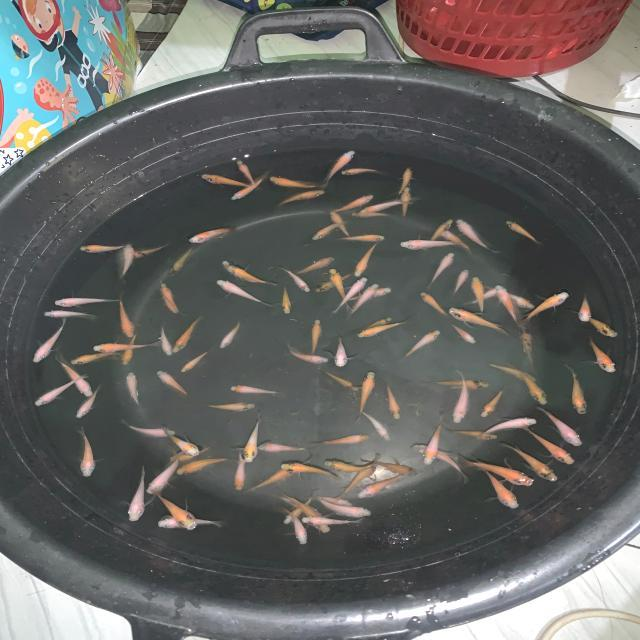nila: (474, 456, 522, 511), (458, 453, 532, 488), (503, 439, 560, 484), (411, 440, 469, 483), (151, 488, 201, 532), (356, 471, 426, 502), (280, 492, 330, 534), (33, 373, 89, 408), (448, 306, 510, 336), (528, 428, 576, 466), (538, 407, 583, 447), (51, 357, 96, 396), (216, 278, 272, 308), (521, 290, 570, 324), (31, 321, 68, 366), (246, 466, 302, 494), (328, 276, 368, 315), (567, 309, 620, 338), (146, 448, 177, 497), (513, 364, 549, 406), (484, 282, 537, 310), (456, 218, 496, 254), (320, 149, 358, 186), (356, 407, 394, 444), (340, 464, 382, 497), (356, 316, 416, 339), (126, 466, 149, 524), (476, 416, 536, 438), (280, 492, 318, 526), (318, 496, 374, 519), (172, 314, 204, 354), (278, 488, 320, 518), (279, 462, 345, 481), (401, 330, 442, 360), (365, 455, 418, 478), (586, 336, 618, 374), (74, 428, 98, 478), (484, 361, 538, 383), (176, 456, 230, 478), (230, 170, 266, 202), (346, 282, 378, 318), (186, 223, 236, 246), (566, 364, 589, 414), (242, 412, 264, 464), (156, 370, 194, 400), (328, 266, 351, 314), (494, 282, 519, 326), (422, 421, 446, 466), (312, 271, 356, 295), (155, 516, 230, 530), (167, 244, 196, 280), (122, 371, 147, 412), (275, 189, 326, 209), (74, 383, 102, 419), (68, 348, 124, 366), (228, 265, 278, 285), (292, 253, 335, 276), (504, 220, 542, 246), (322, 368, 360, 394), (280, 506, 306, 544), (163, 428, 201, 454), (123, 419, 175, 438), (160, 282, 189, 316), (358, 368, 377, 419), (516, 326, 539, 368), (226, 382, 286, 398), (450, 369, 467, 425), (92, 340, 160, 354), (311, 218, 350, 242), (352, 241, 378, 277), (201, 173, 256, 190), (479, 386, 508, 418), (330, 193, 374, 214), (116, 292, 136, 337), (280, 266, 312, 294), (430, 252, 456, 286), (439, 228, 472, 254), (355, 314, 394, 336), (420, 290, 448, 320), (324, 458, 384, 472), (426, 378, 490, 391), (398, 238, 466, 250), (53, 296, 121, 308), (168, 444, 213, 462), (116, 242, 136, 282), (222, 260, 256, 283), (287, 345, 328, 364), (120, 332, 142, 367), (344, 286, 392, 302), (383, 381, 402, 421), (180, 350, 213, 373), (218, 320, 243, 350), (445, 428, 498, 442), (255, 441, 312, 454), (426, 218, 454, 244), (464, 286, 502, 305), (358, 200, 406, 215), (269, 176, 320, 190), (470, 274, 486, 318), (132, 241, 170, 259), (316, 434, 370, 446), (204, 402, 258, 414), (232, 454, 249, 492), (235, 159, 258, 187), (450, 268, 470, 300), (309, 316, 323, 361), (41, 310, 104, 320), (328, 210, 350, 238), (156, 287, 178, 315), (449, 323, 477, 345), (333, 334, 350, 369), (314, 494, 356, 508), (160, 322, 176, 358), (577, 290, 593, 324), (396, 166, 414, 196), (302, 516, 356, 526), (278, 283, 294, 316), (78, 243, 128, 253), (338, 234, 388, 243), (337, 167, 385, 176), (402, 186, 412, 221), (349, 210, 391, 218)
